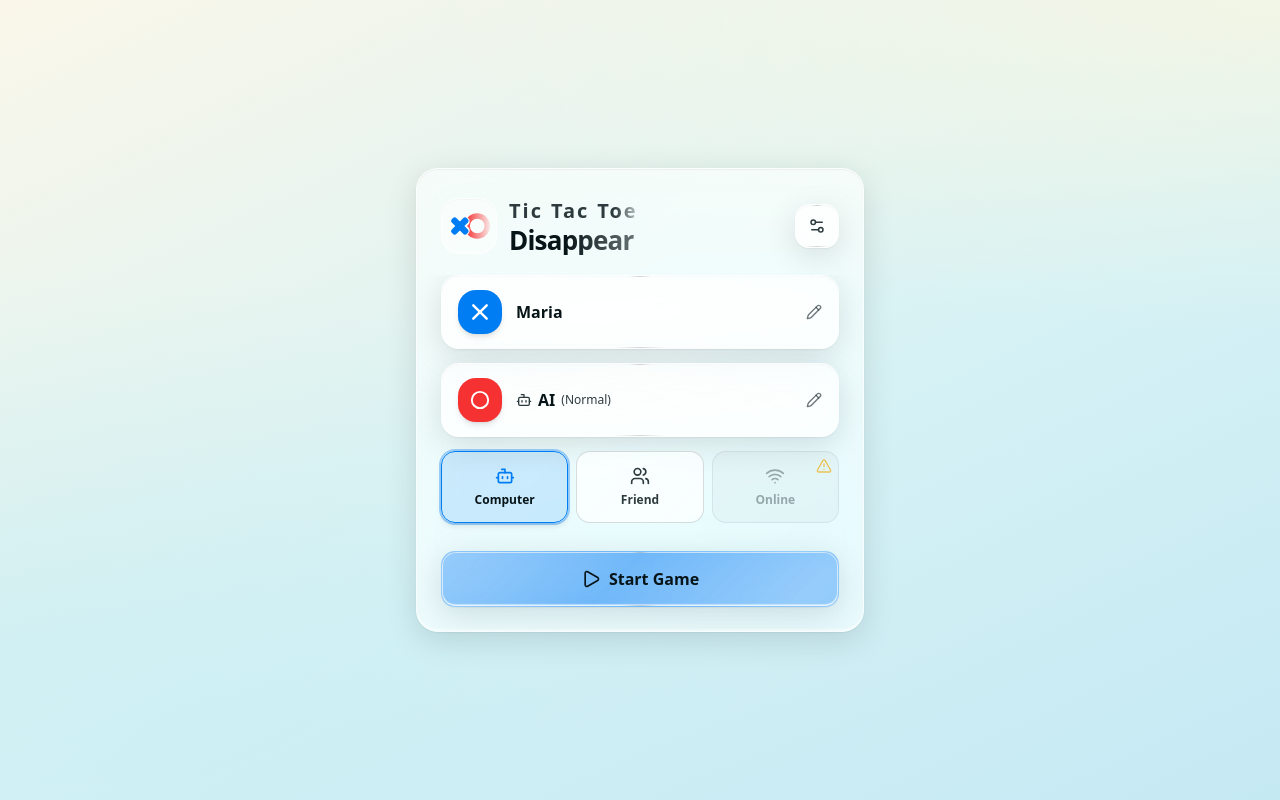
Scenario: replaying the practice round › is offered in the lobby's help and returns to the lobby untouched
Click the button named "Settings" at (817,226), box [795,204,839,248]
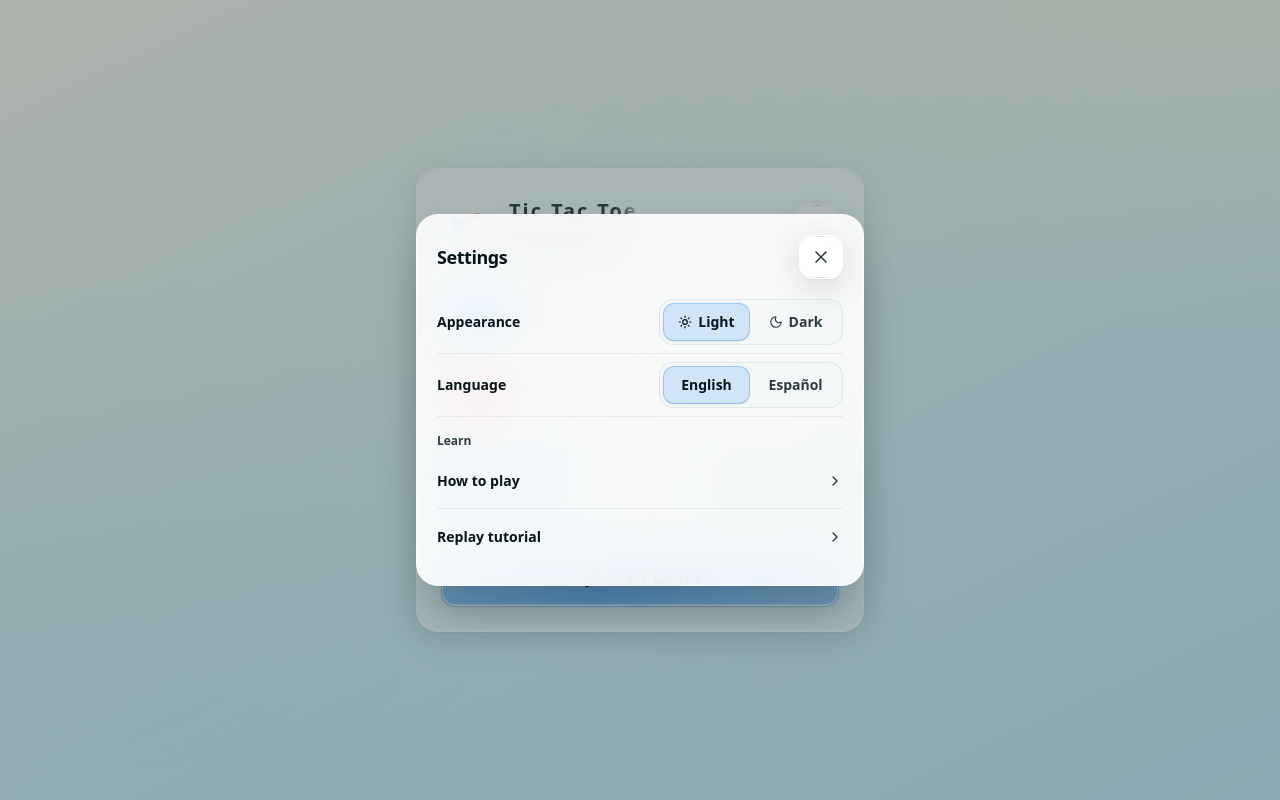
Click the button "How to play" at (478,480), box [437,453,843,509]
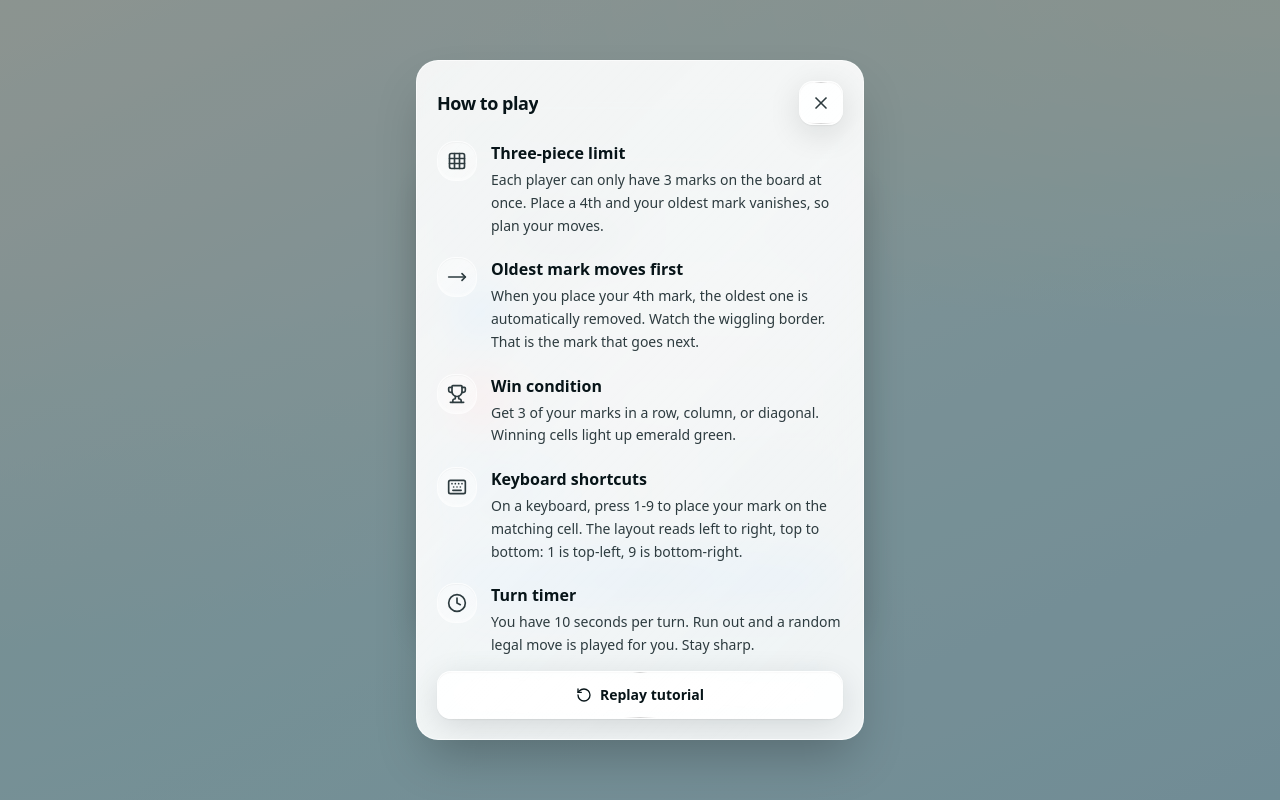
Click the button "Replay tutorial" at (640,695), box [437,671,843,719]
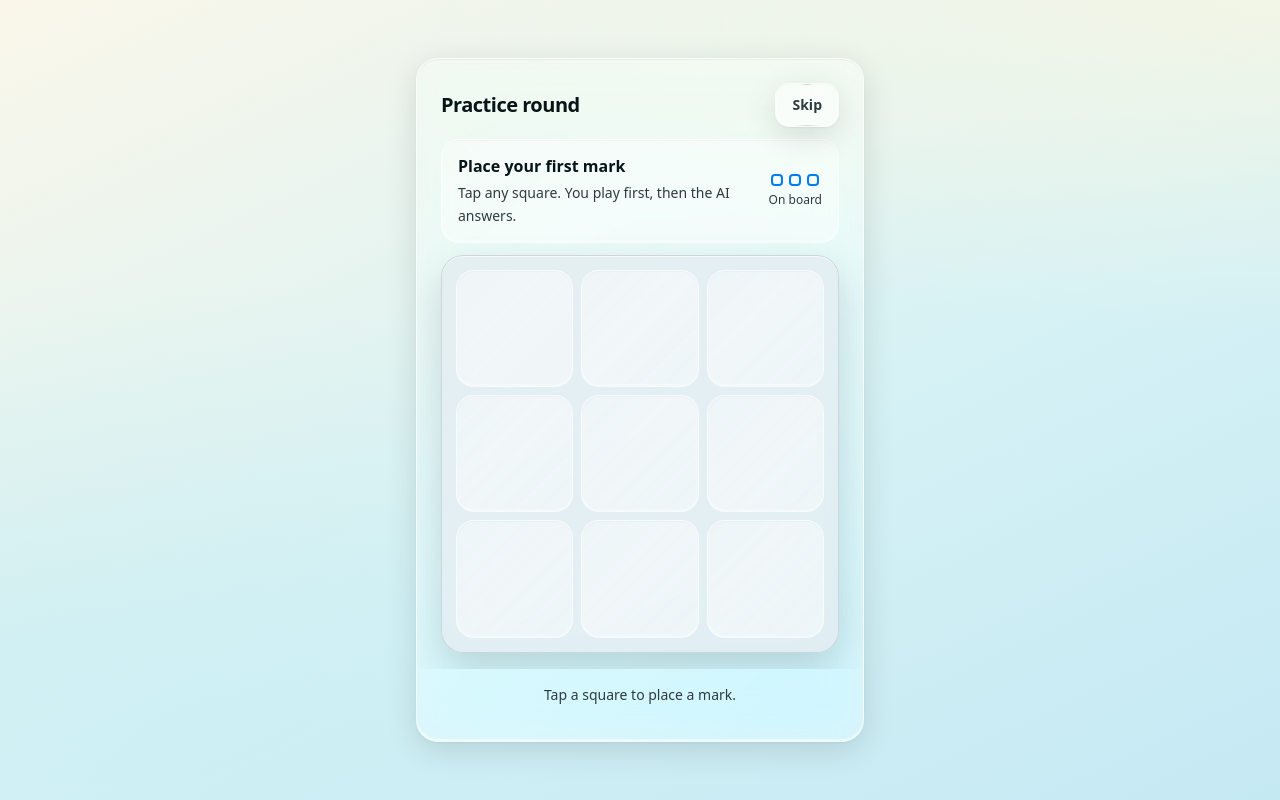
Expected: the element named "Tic Tac Toe game board" is shown, [456,270,824,638]
Click the button "Skip" at (807,105), box [776,83,839,127]
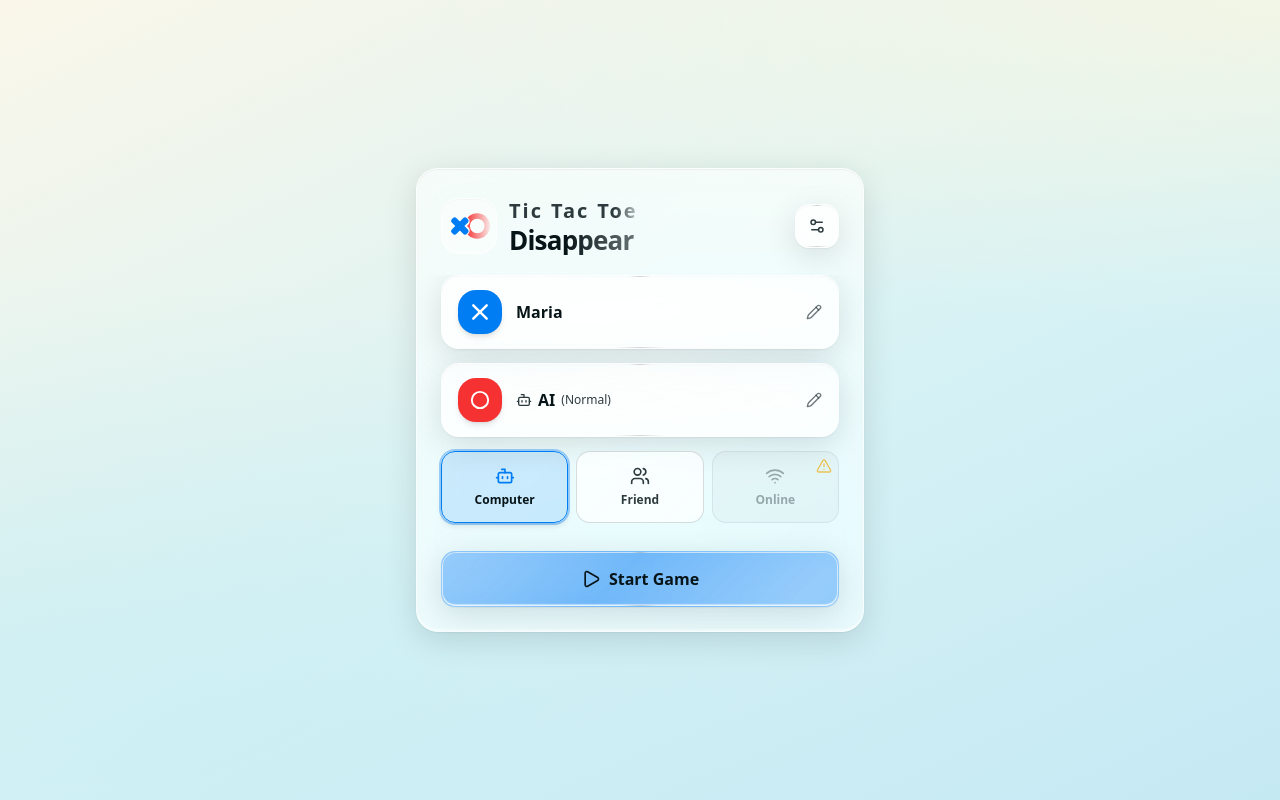
Expected: the button with aria-label "Edit your player settings" reads "Maria", [441,275,839,349]
